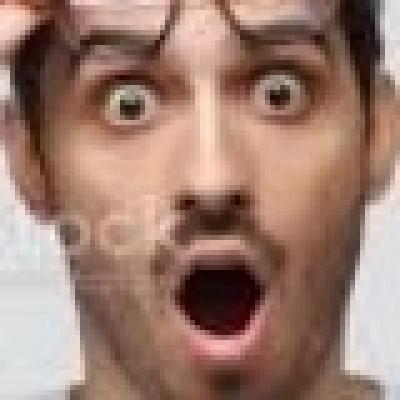surprise: (44, 1, 356, 390)
